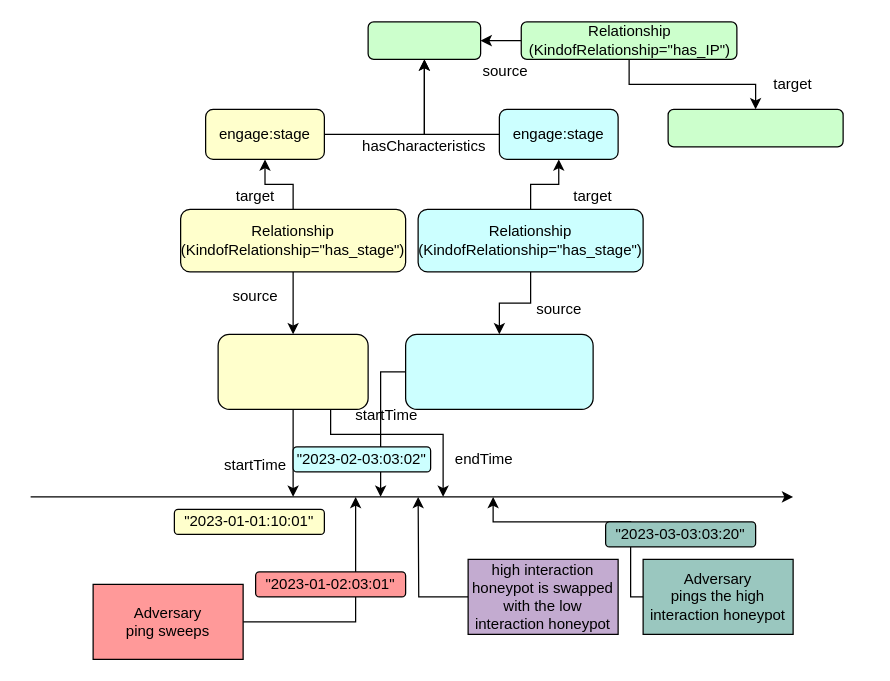
Image size: 890x681. Some labels were removed from this diagram. Here are the shapes that lost their labels. From the top down, the centre of each, then its label:
[424,40]: "Windows XP"
[755,127]: observable:IPAddress IP:XXX.YYY.ZZZ
[292,371]: engage:Honeypot name="honeypot-low"
[498,371]: engage:Honeypot name="honeypot-high"
